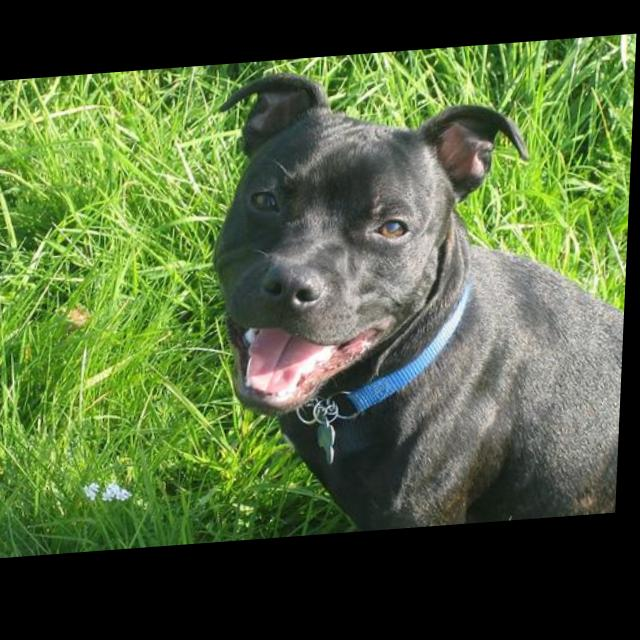staffford: (203, 55, 638, 547)
